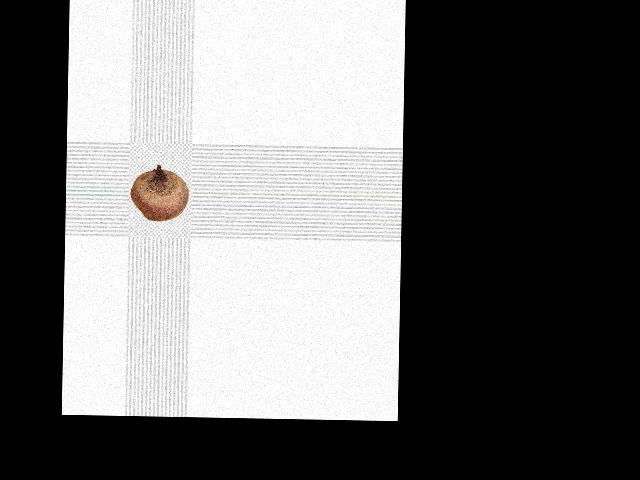beet: (130, 163, 188, 221)
